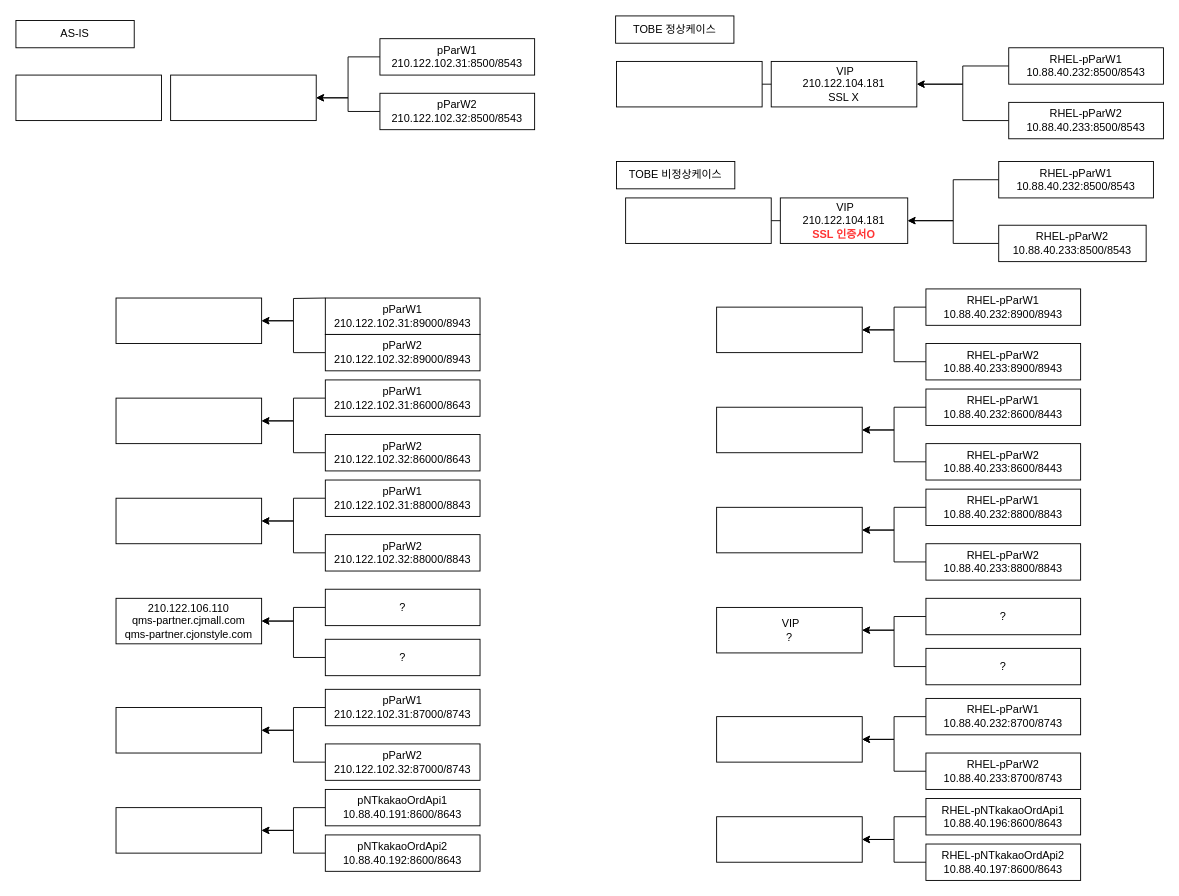
This 1179x896 diagram has some shape labels left out. The shapes that lost their labels are listed below. From the top down, each one's box as (x1, y1, x2, y2) in pixels, then its label:
(15, 74, 162, 121): L4 SSL 인증서X
(170, 74, 316, 121): 210.122.101.33 partner.cjmall.com parter.cjonstyle.com
(616, 61, 762, 107): L7 SSL 인증서O
(625, 197, 771, 243): L7 SSL X
(115, 297, 262, 344): 210.122.102.34 mopa.cjmall.com mopa.cjonstyle.com
(716, 306, 862, 353): VIP 210.122.104.182
(115, 397, 262, 444): 210.122.101.100 api.cjmall.com api.cjonstyle.com
(716, 406, 862, 453): VIP 210.122.104.183
(115, 497, 262, 544): 210.1220.102.41 pos.cjmall.com pos.cjonstyle.com
(716, 506, 862, 553): VIP 210.122.104.185
(115, 707, 262, 753): 210.122.102.42 intapi.cjmall.com intapi.cjonstyle.com
(716, 716, 862, 762): VIP 210.122.104.184
(115, 807, 262, 853): 210.122.104.109 카카오톡 주문 API DNS 없음
(716, 816, 862, 862): VIP 210.122.104.186
